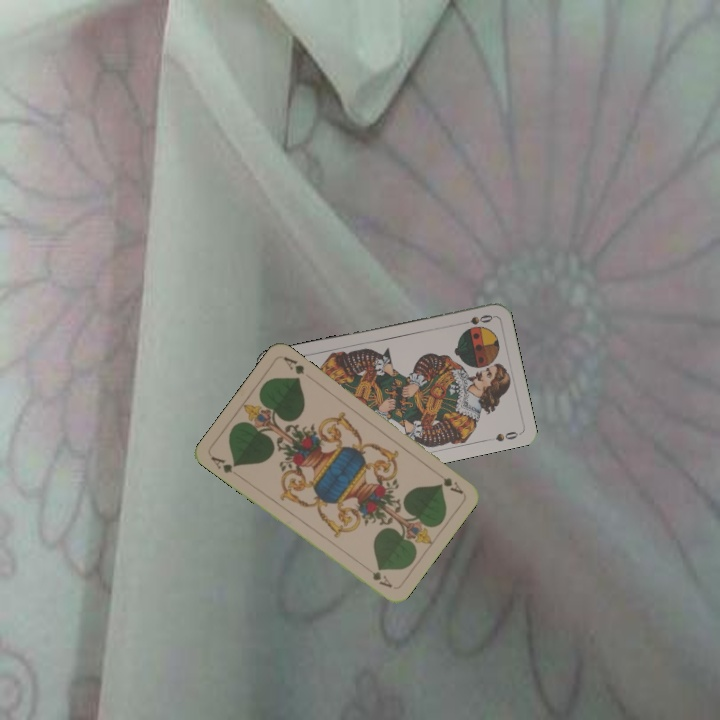GA: (207, 452, 239, 476), (439, 473, 466, 497)
SO: (455, 310, 496, 327)
